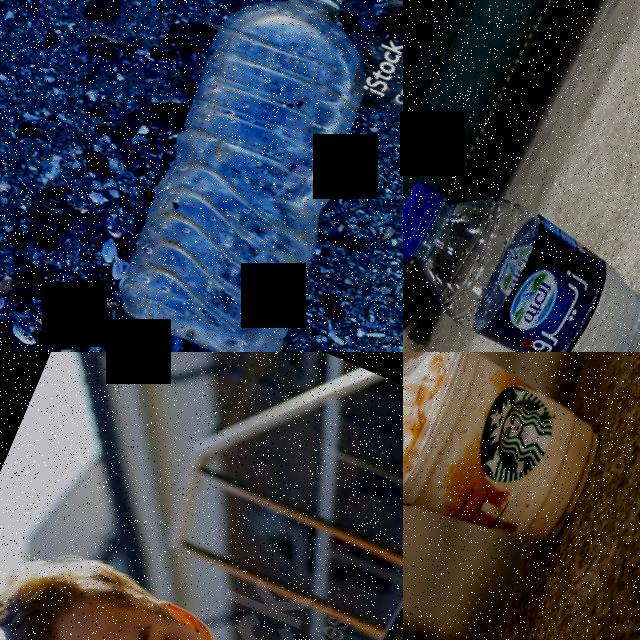bottle: (84, 0, 403, 352), (403, 155, 640, 352)
cup: (403, 352, 625, 578)
